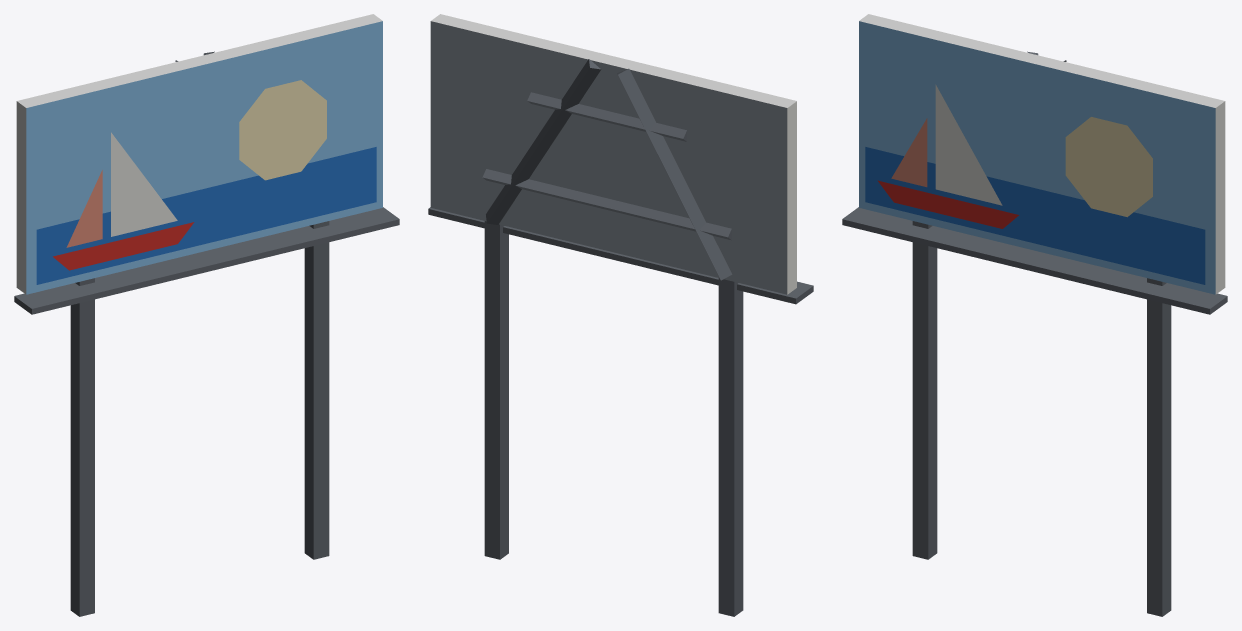
File: prop_billboard.glb
3 views of the same model, side by side, from view 1: azimuth 30°, elevation 25°; view 2: azimuth 150°, elevation 25°; view 3: azimuth 330°, elevation 25° (orthographic).
Visible parts, largest first — view 1: prop_billboard; view 2: prop_billboard; view 3: prop_billboard.
Boxes of the visible parts, left/top/right/bottom form: prop_billboard: left=14, top=14, right=399, bottom=616; prop_billboard: left=428, top=14, right=813, bottom=616; prop_billboard: left=842, top=14, right=1227, bottom=616.
Bounding box in the file's own units: 6.6 × 8.97 × 0.805.
